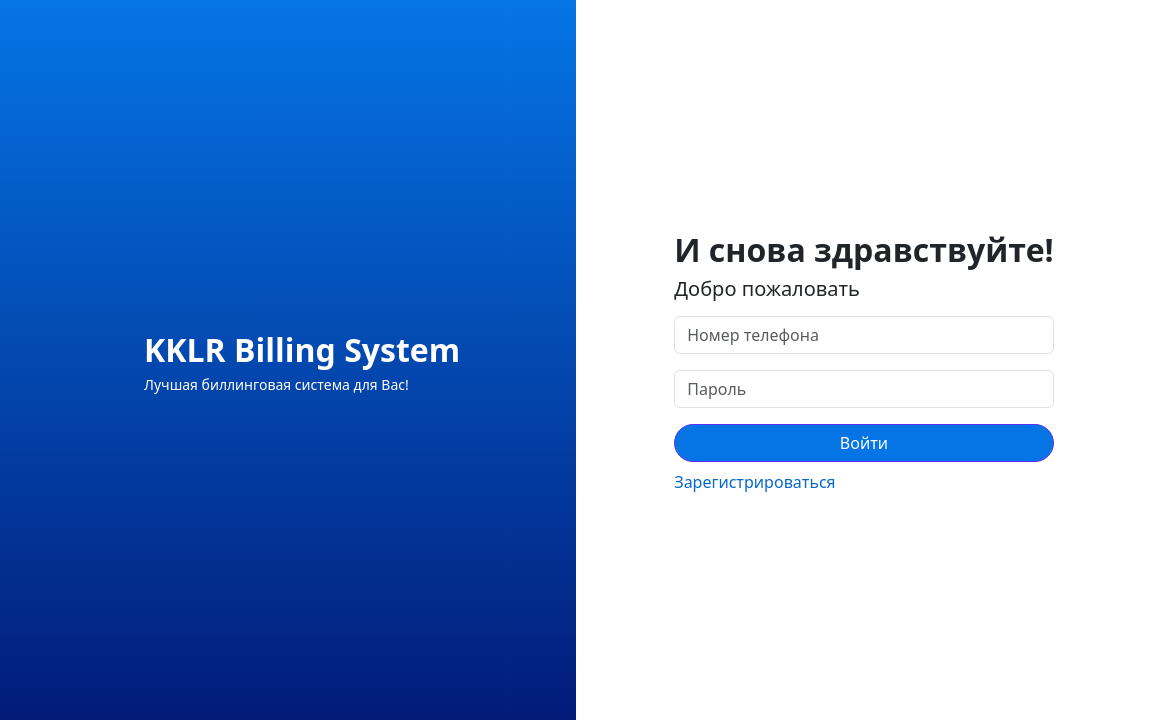
routes › check redirect from Login to Register
Click the link "Зарегистрироваться". click: {"x": 755, "y": 482}
box: [674,471,836,493]
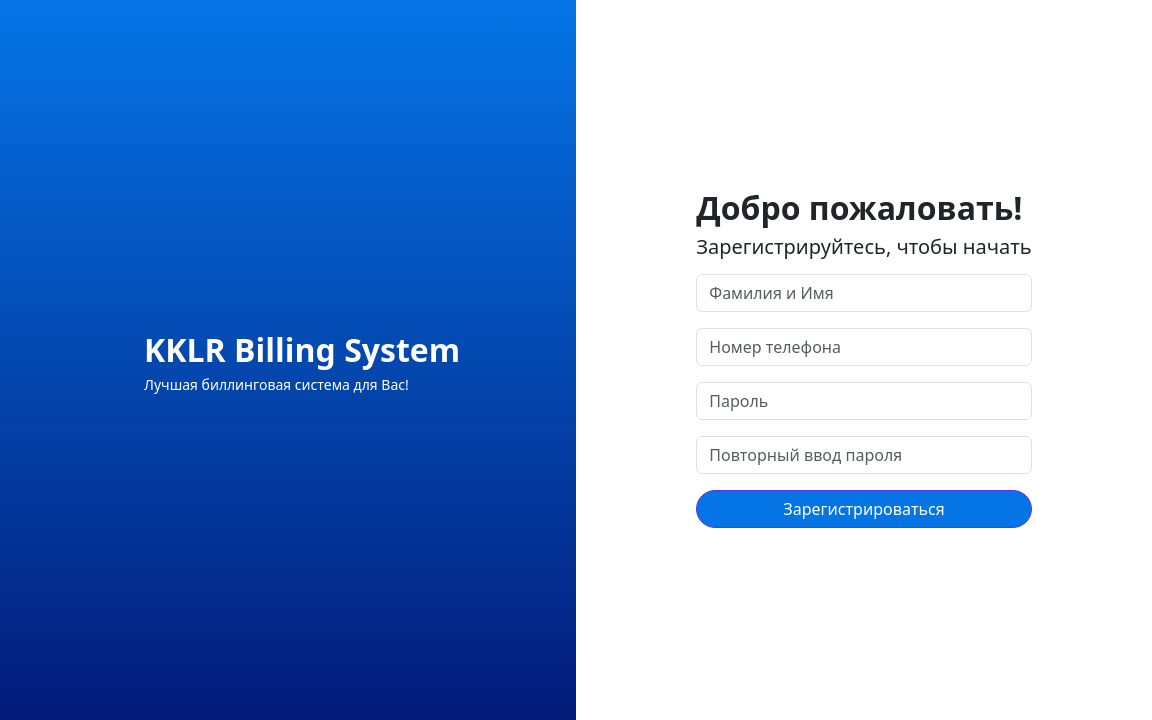
Check: the text "Зарегистрируйтесь, чтобы начать" is shown, box [696,232,1032,262]
